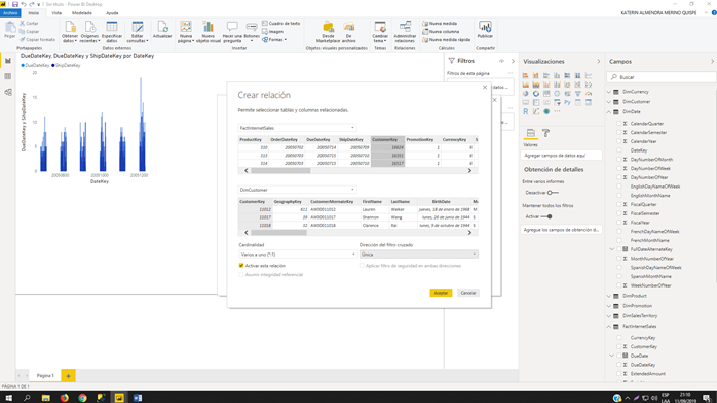

This screenshot's page, from the dashboard's own definition file:
{"tool":"powerbi","page":{"name":"Página 1","canvas":[1280,720],"ordinal":0},"visuals":[{"type":"clusteredColumnChart","fields":{"Y":["CountNonNull(FactInternetSales.DueDateKey)","CountNonNull(FactInternetSales.DueDateKey)","CountNonNull(FactInternetSales.ShipDateKey)"],"Category":["DimDate.DateKey"]},"box":[10.1,0,450.9,398.3],"z":0},{"type":"clusteredColumnChart","fields":{"Y":["CountNonNull(DimProductSubcategory.CategoryKey)","CountNonNull(DimProductCategory.CategoryKey)"]},"box":[461,0,483.4,360.3],"z":1000}]}

Visuals, with their boxes on the page's 1280x720 design canvas (x1, y1, x2, y2). These are canvas units, not pixel positions in the 717x403 screenshot, which may show the page scaled, cropped or inside an application window:
clusteredColumnChart - CountNonNull(FactInternetSales.DueDateKey) x CountNonNull(FactInternetSales.DueDateKey): (10,0,461,398)
clusteredColumnChart - CountNonNull(DimProductSubcategory.CategoryKey) x CountNonNull(DimProductCategory.CategoryKey): (461,0,944,360)
